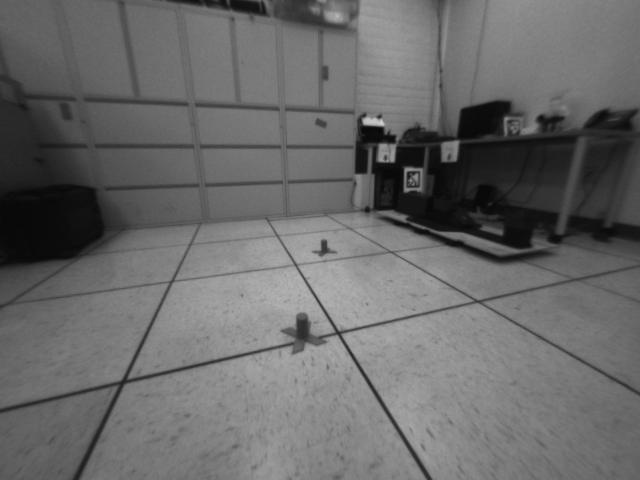X: (279, 312, 329, 355), (310, 238, 338, 258)
